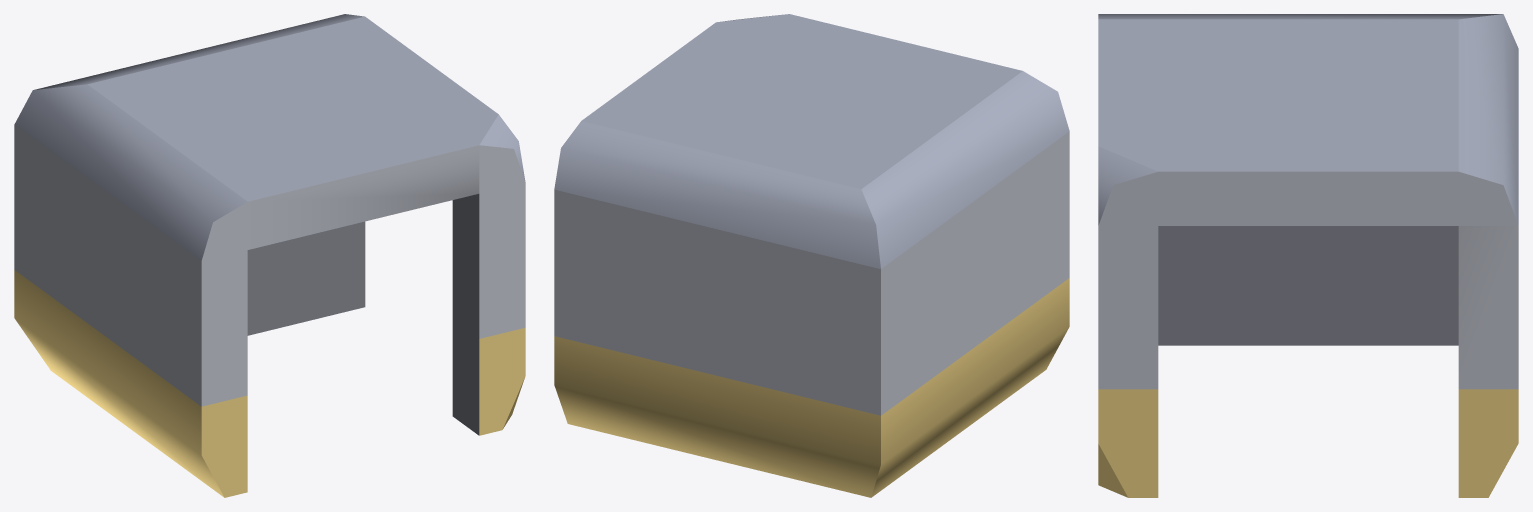
File: cover-stripe-corner.fbx
The picture shows the model from 3 angles, left to right: view 1: azimuth 30°, elevation 25°; view 2: azimuth 150°, elevation 25°; view 3: azimuth 270°, elevation 25°; orthographic projection. The views are drawn at different scales.
Parts seen in each view (by area): view 1: cover-stripe-corner; view 2: cover-stripe-corner; view 3: cover-stripe-corner.
Part boxes in pixels (x1,y1,x2,y2): cover-stripe-corner: [14, 14, 525, 497]; cover-stripe-corner: [554, 14, 1069, 497]; cover-stripe-corner: [1098, 14, 1518, 497].
Size of the model in its own units: 140 by 120 by 140.
